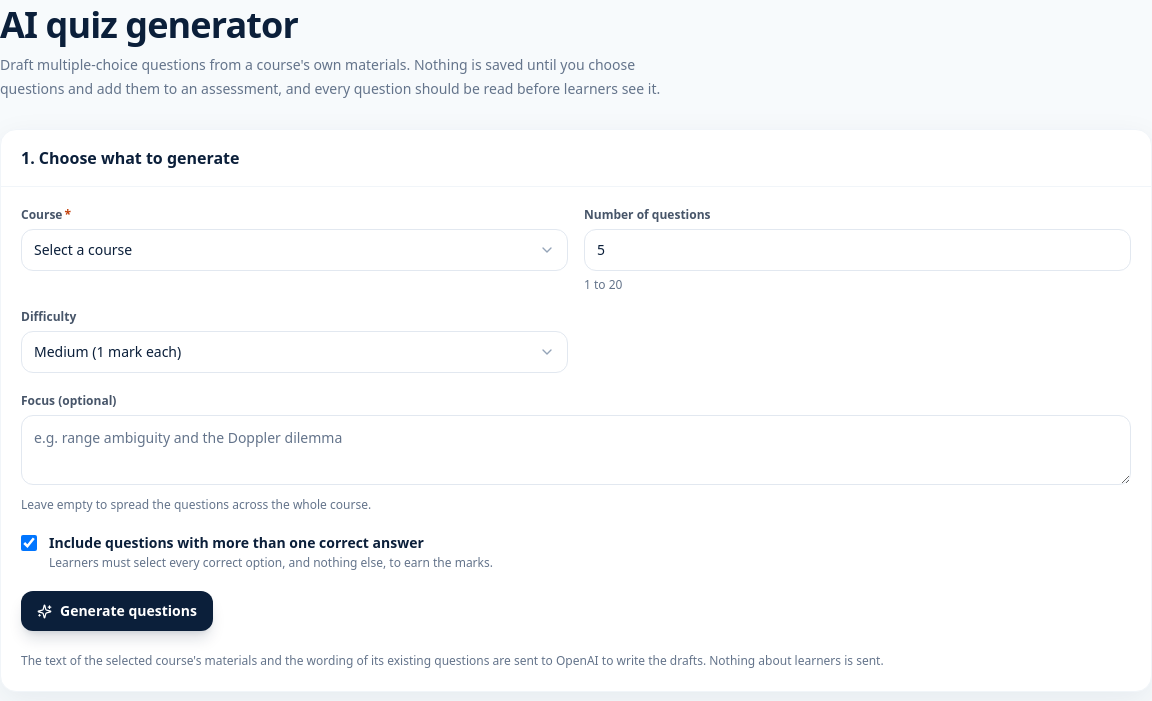
it: AI quiz generator › sends a single question as it is, and includes the focus when one is given
The image size is (1152, 701).
Select "Doppler Radar Analysis" in the dropdown labelled "Course*" at (294, 250), box [21,229,568,271]
Replace the text in the field labelled "Number of questions" with "3" at (858, 250), box [584,229,1131,271]
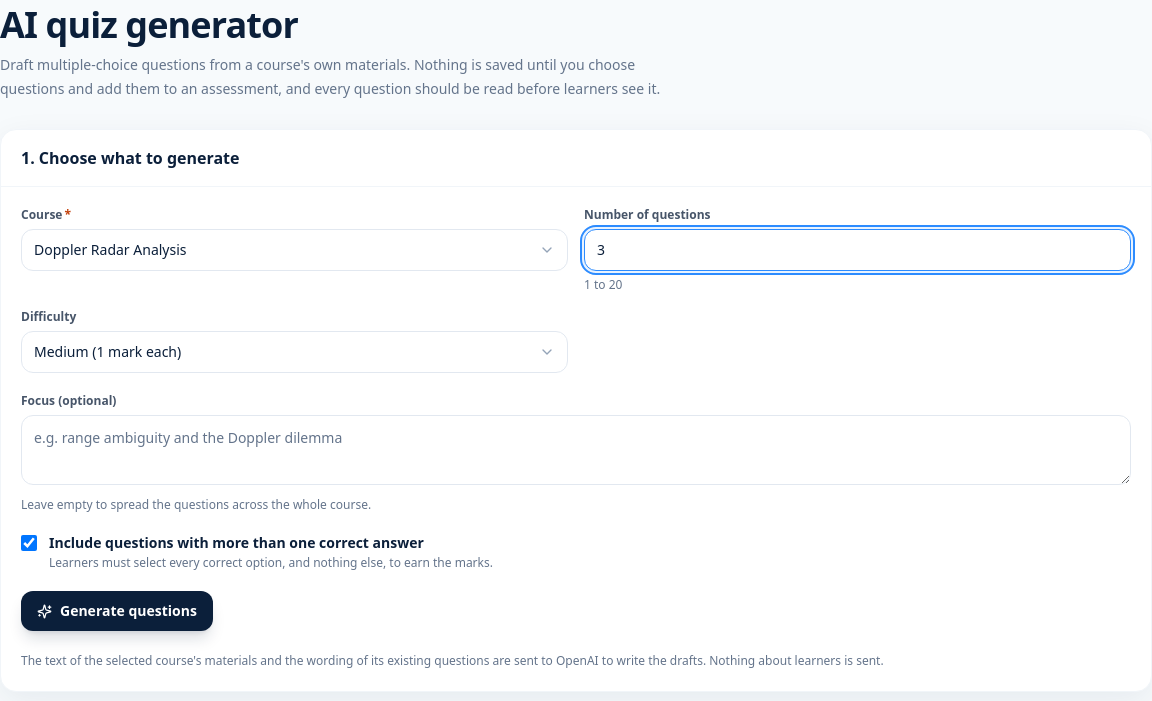
Select "Hard (2 marks each)" in the dropdown labelled "Difficulty" at (294, 352), box [21,331,568,373]
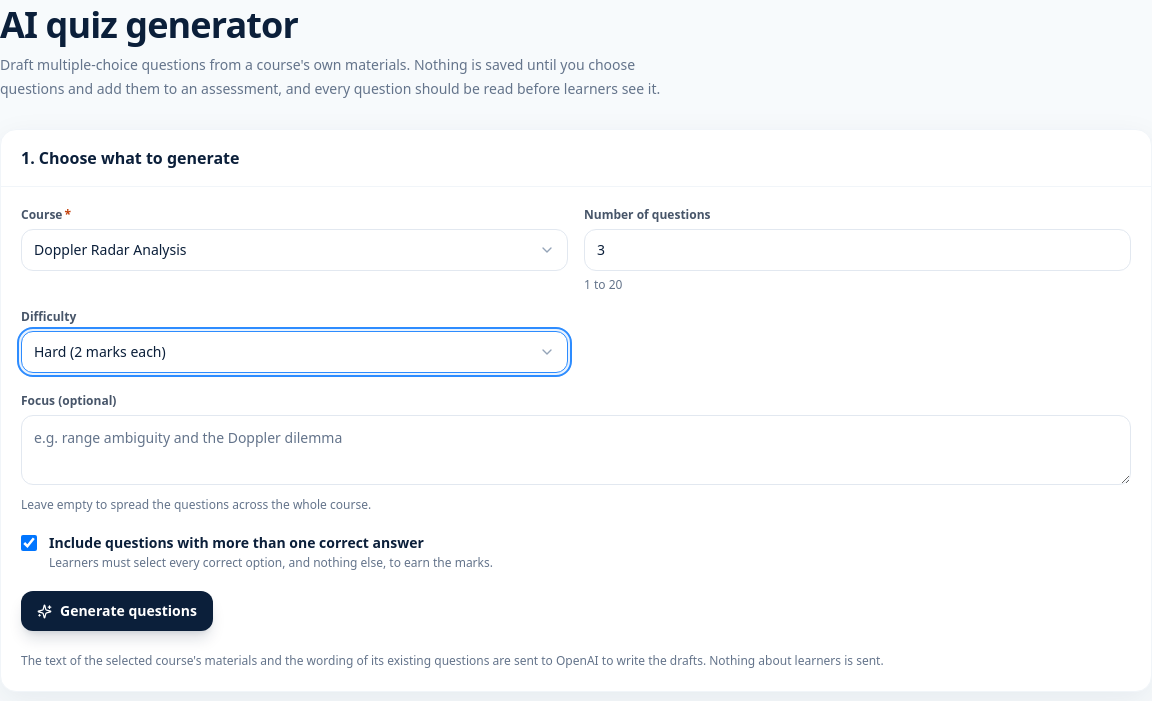
Type "range ambiguity" into the text box labelled "Focus (optional)" at (576, 450), box [21,415,1131,485]
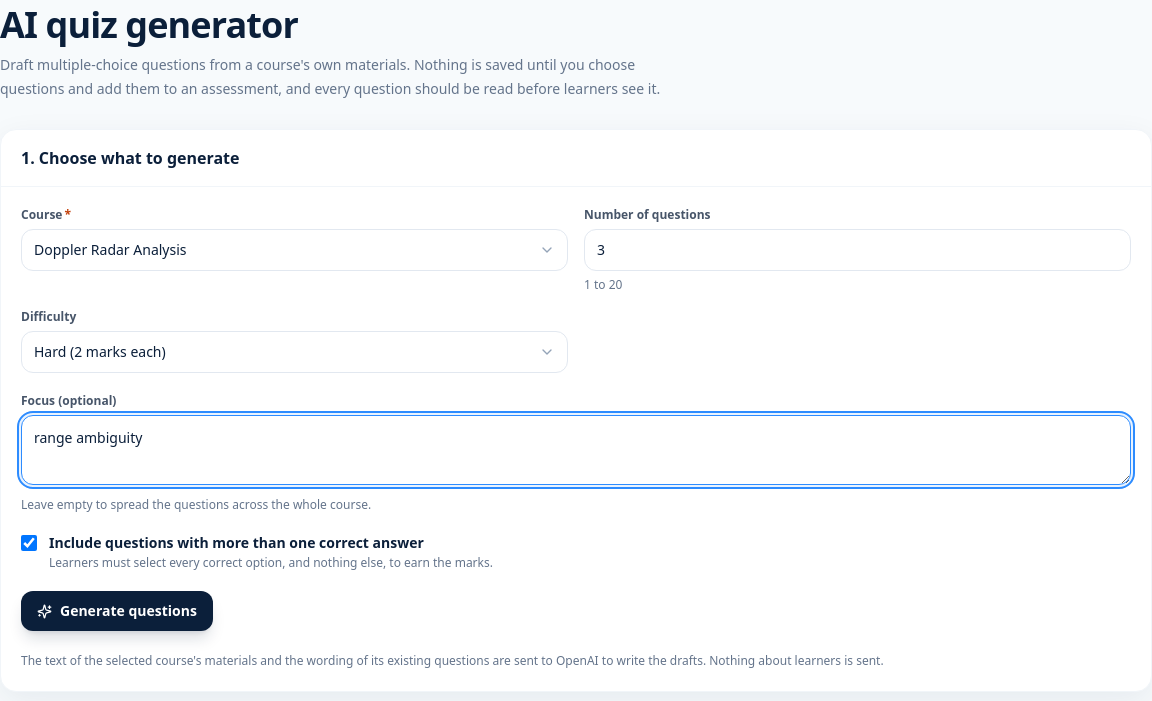
Click the checkbox labelled "more than one correct answer" at (29, 543), box [21,535,37,551]
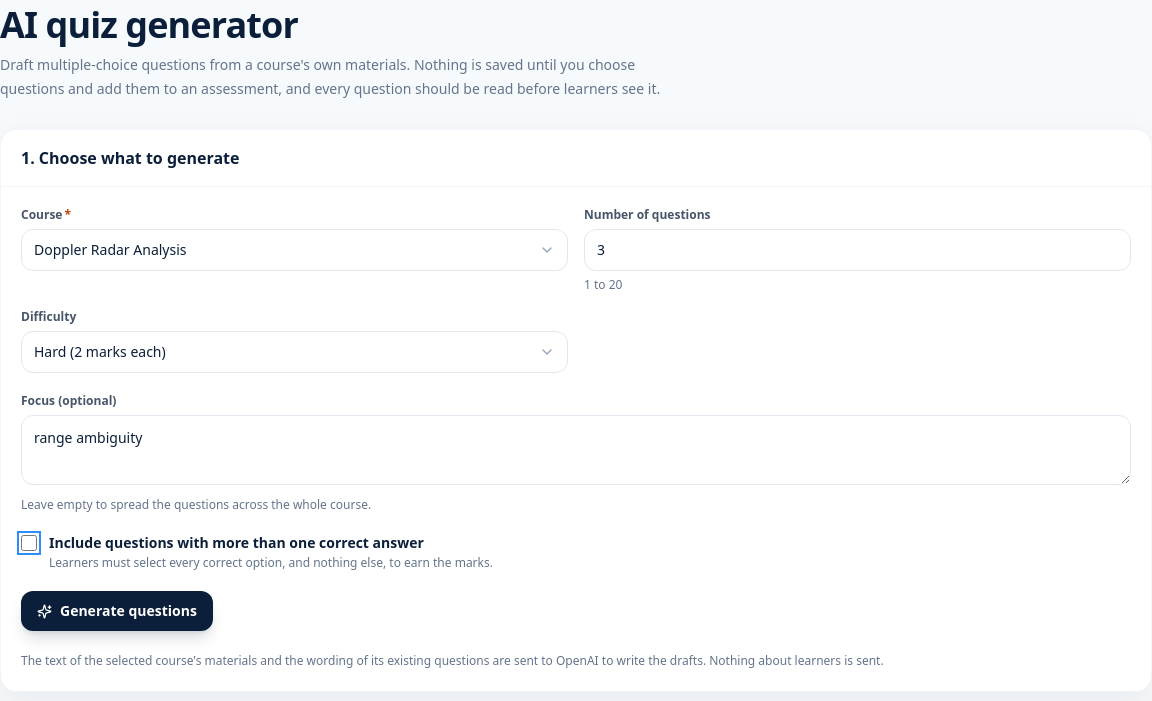
Click the button "Generate questions" at (117, 611), box [21,591,213,631]
(page scrolled)
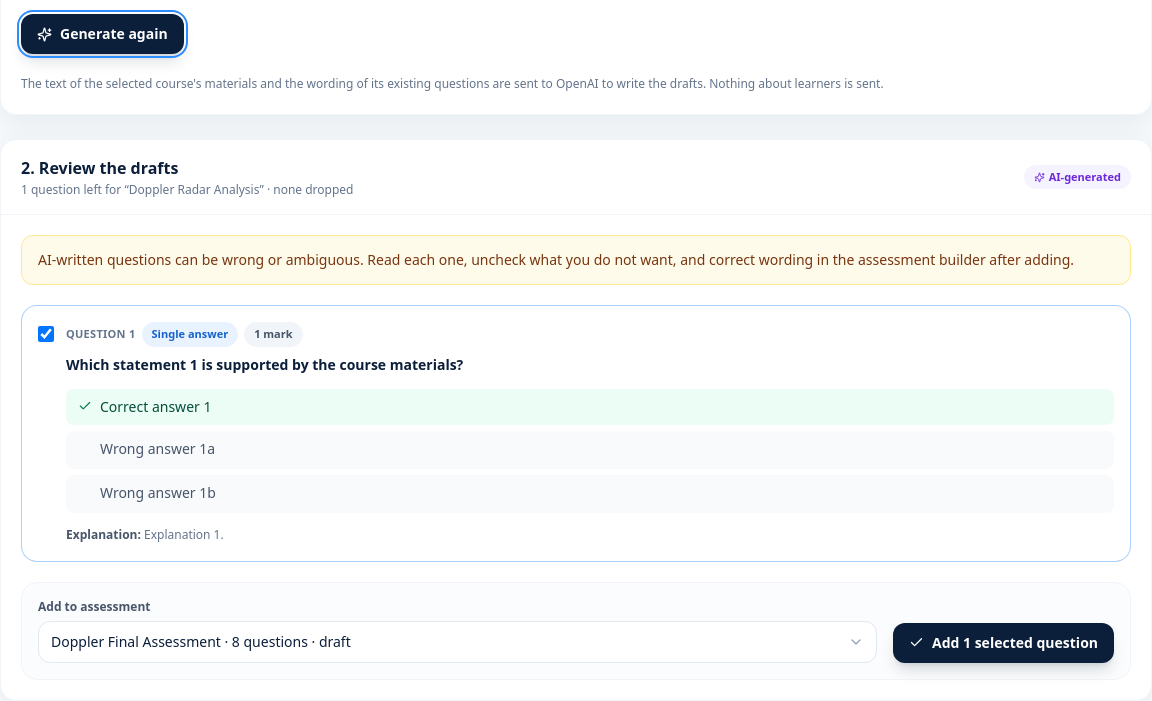
Expected: the heading "2. Review the drafts" is shown, [21,157,178,179]
Click the button "Add 1 selected question" at (1004, 642), box [893,622,1114,662]
(page scrolled)
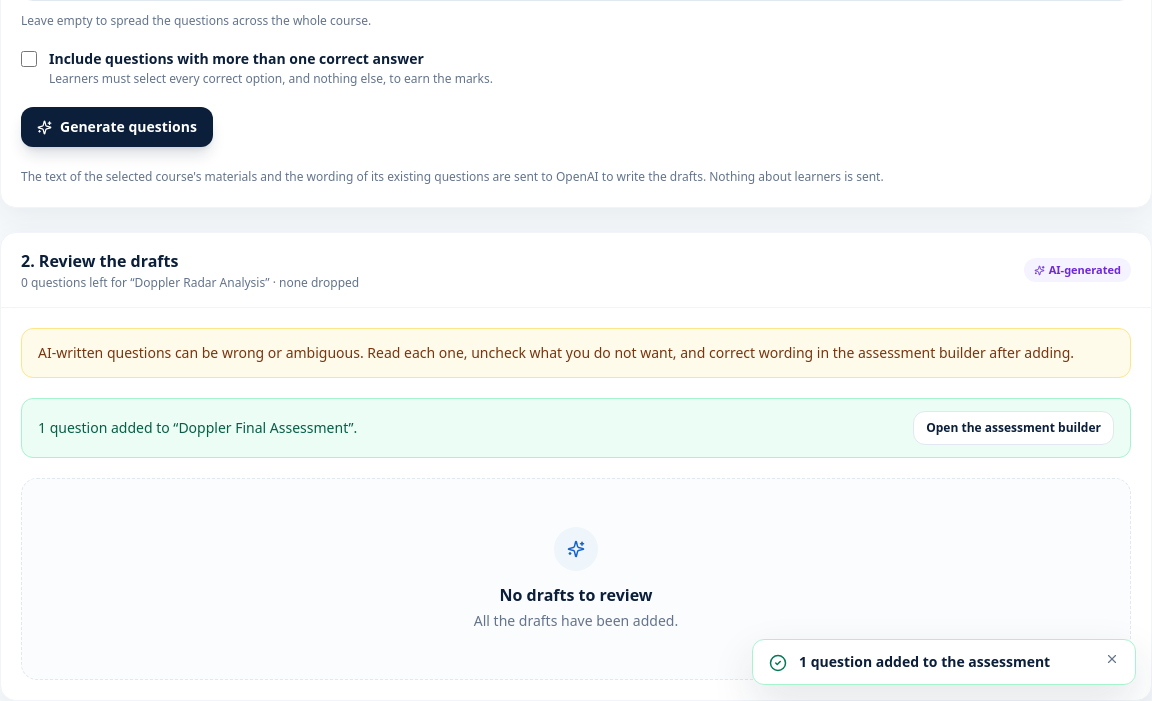
Expected: the text "1 question added to “Doppler Final Assessment”." is shown, [38,416,357,440]
